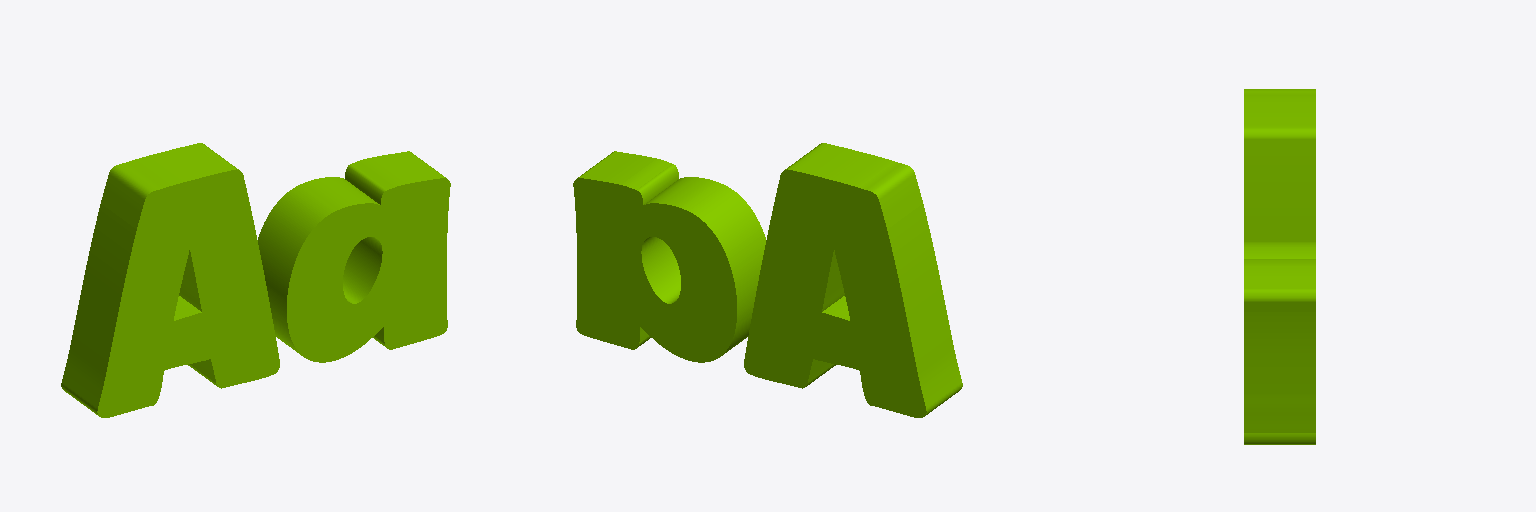
The model's file is Letter_a.obj.
The picture shows the model from 3 angles: view 1: azimuth 30°, elevation 25°; view 2: azimuth 150°, elevation 25°; view 3: azimuth 270°, elevation 25°; orthographic projection.
Visible parts, largest first — view 1: Text; view 2: Text; view 3: Text.
Boxes of the visible parts, x1=… form: Text: x1=61, y1=143, x2=450, y2=417; Text: x1=573, y1=143, x2=962, y2=417; Text: x1=1244, y1=89, x2=1315, y2=444.
Bounding box in the file's own units: 1.13 × 0.6682 × 0.2.